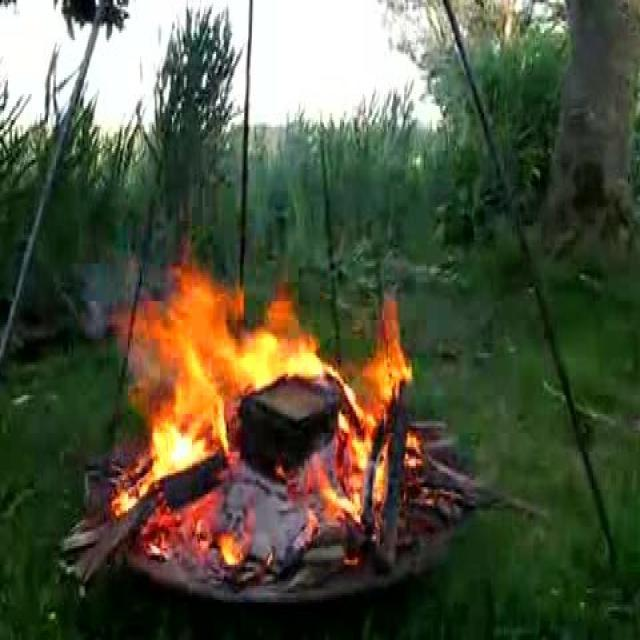Fire: (143, 293, 409, 497)
